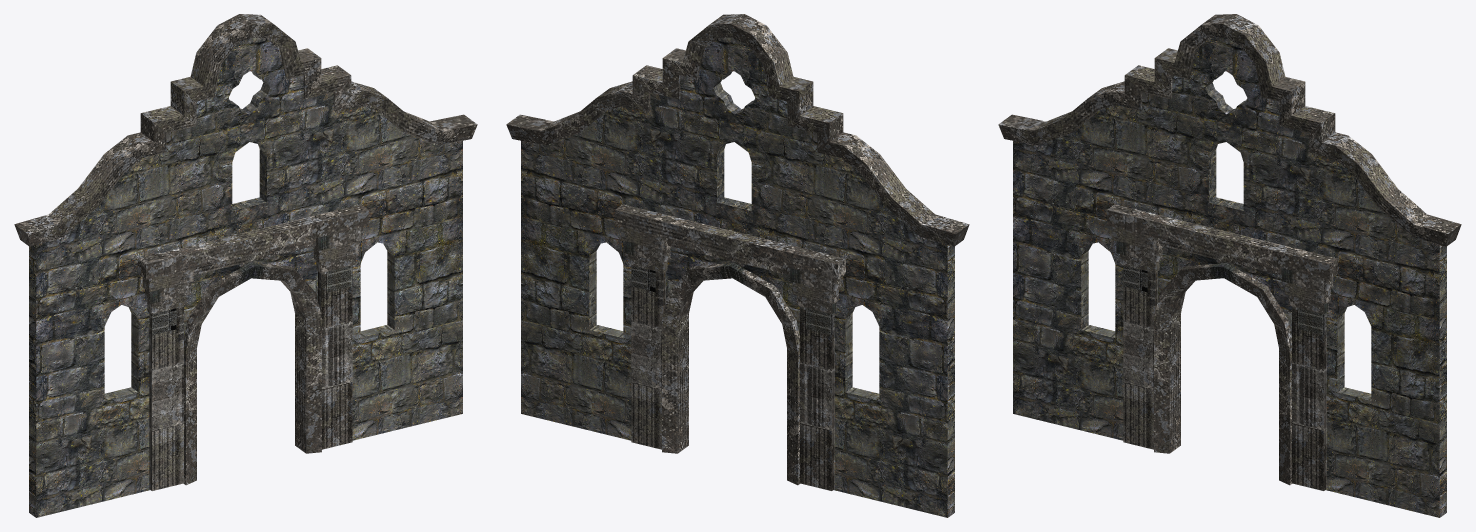
Rendered from Swamp_ruin1_1_LOD2.fbx.
3 renders of one model, left to right at view 1: azimuth 30°, elevation 25°; view 2: azimuth 150°, elevation 25°; view 3: azimuth 330°, elevation 25°, orthographic.
Visible parts, largest first — view 1: polySurface202; view 2: polySurface202; view 3: polySurface202.
Boxes of the visible parts, <box> form: polySurface202: <box>14,14,477,517</box>; polySurface202: <box>506,14,969,517</box>; polySurface202: <box>998,14,1461,517</box>.
Size of the model in its own units: 10.48 by 9.89 by 0.9389.
